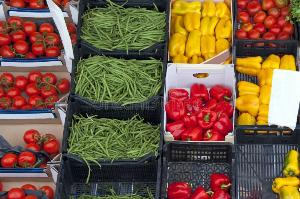bell_pepper: (236, 43, 300, 129), (164, 70, 232, 140), (169, 0, 230, 68), (236, 137, 300, 199), (162, 147, 236, 199)
pomegranate: (235, 0, 300, 47)
tomato: (0, 60, 74, 108), (1, 117, 64, 173), (0, 18, 74, 58), (0, 179, 58, 199), (0, 0, 78, 14)
